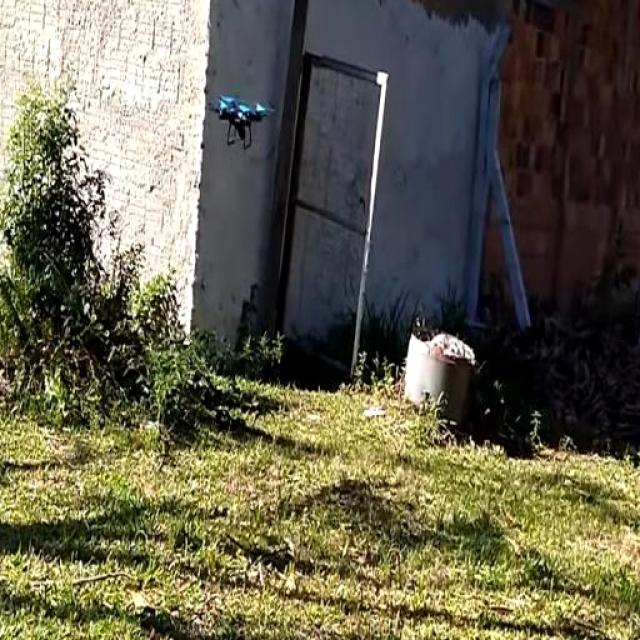bird: (206, 75, 274, 159)
